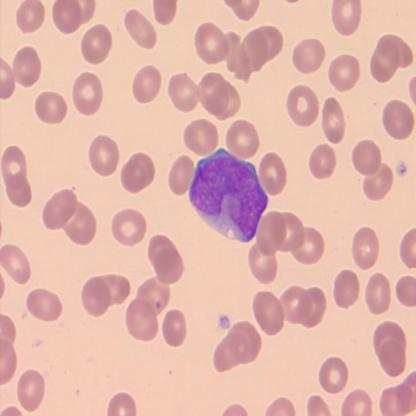Blast: (188, 141, 271, 246)
